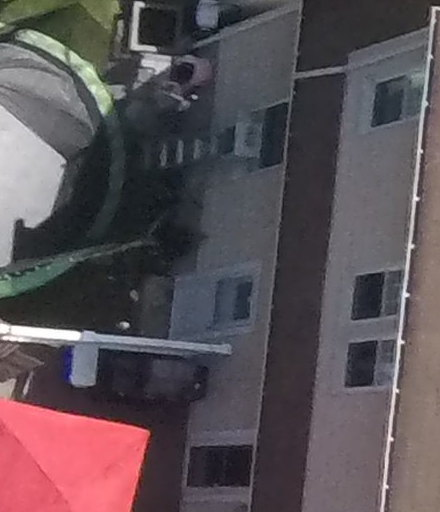container: (55, 342, 106, 395)
